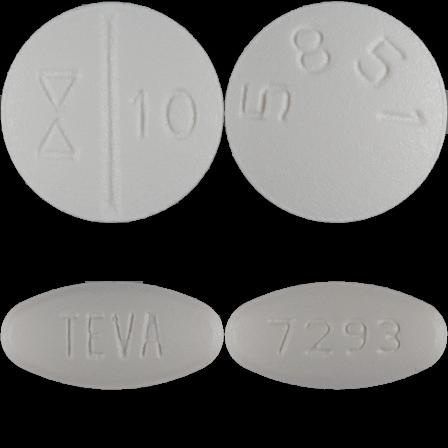61919-859: (0, 0, 224, 224)
